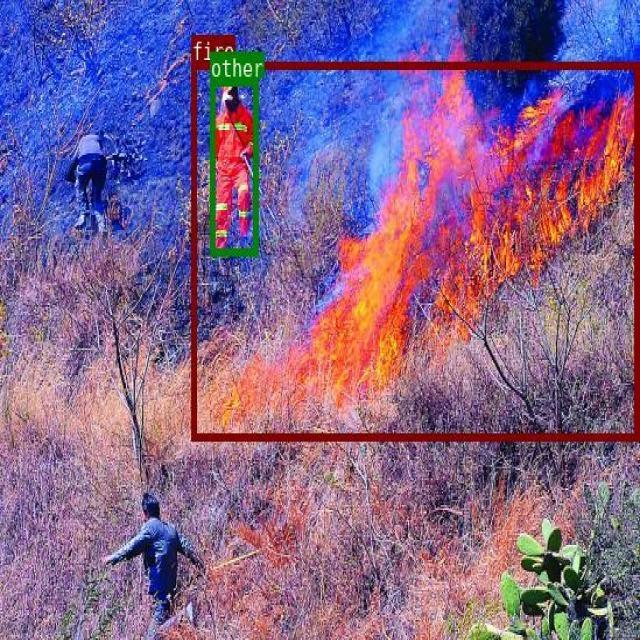fire: (191, 60, 638, 438)
